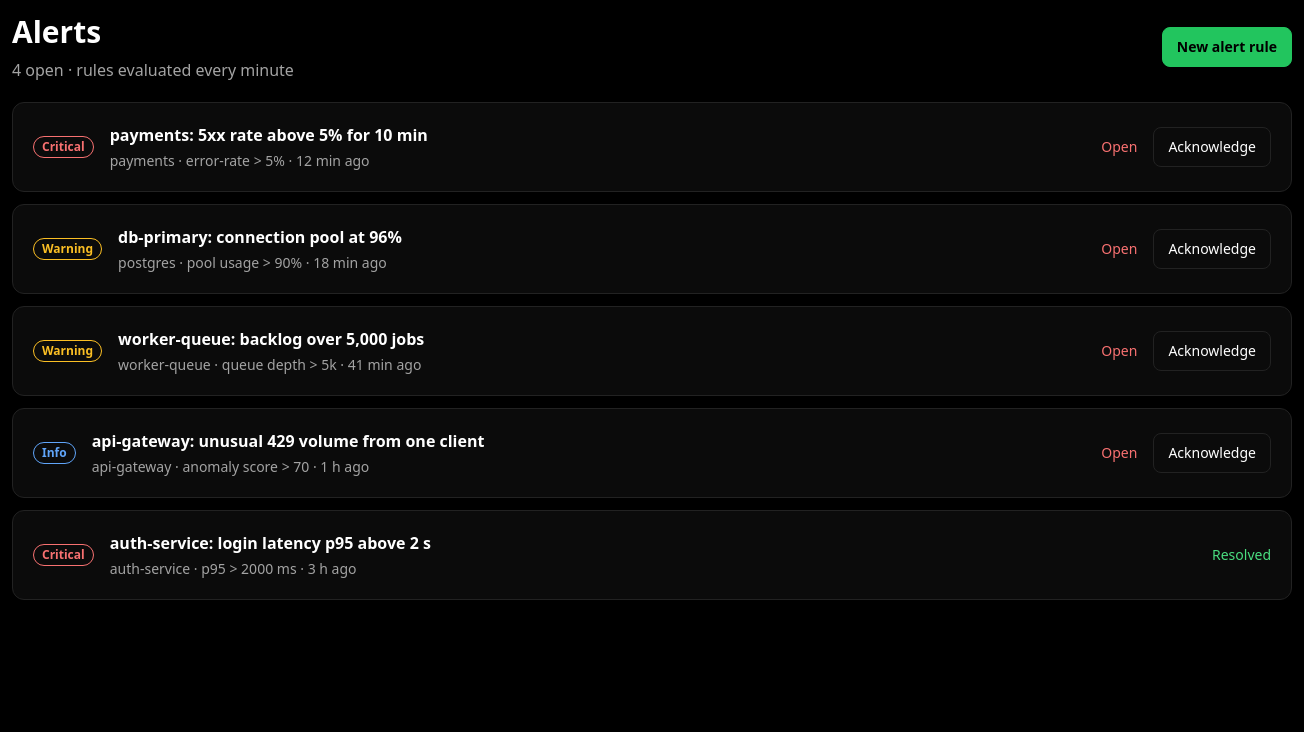
Test: AlertsPage › acknowledges an open alert and lowers the open count
Click the button "Acknowledge" in the row of "payments: 5xx rate above 5% for 10 min" at (1212, 147), box [1153,127,1271,167]
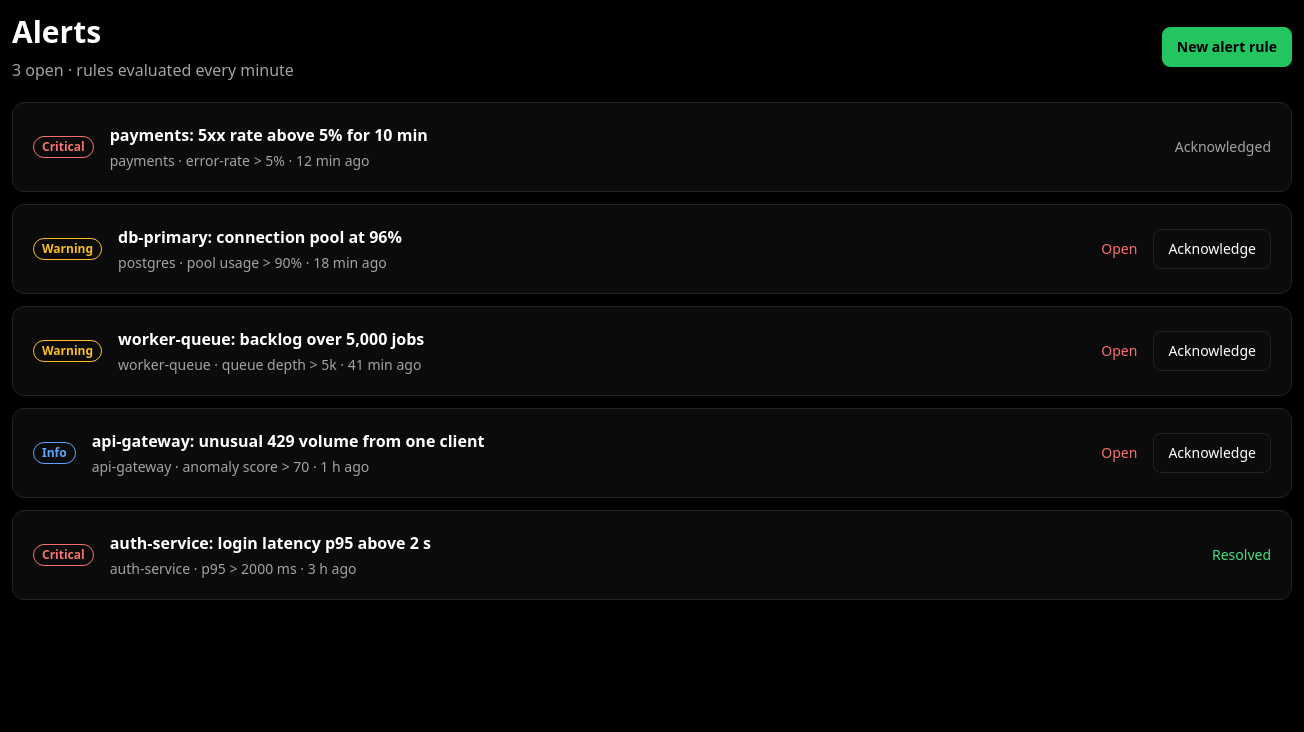
Expected: the text "Acknowledged" is shown, [1175,137,1271,157]
Expected: the text "3 open · rules evaluated every minute" is shown, [12,58,294,82]
